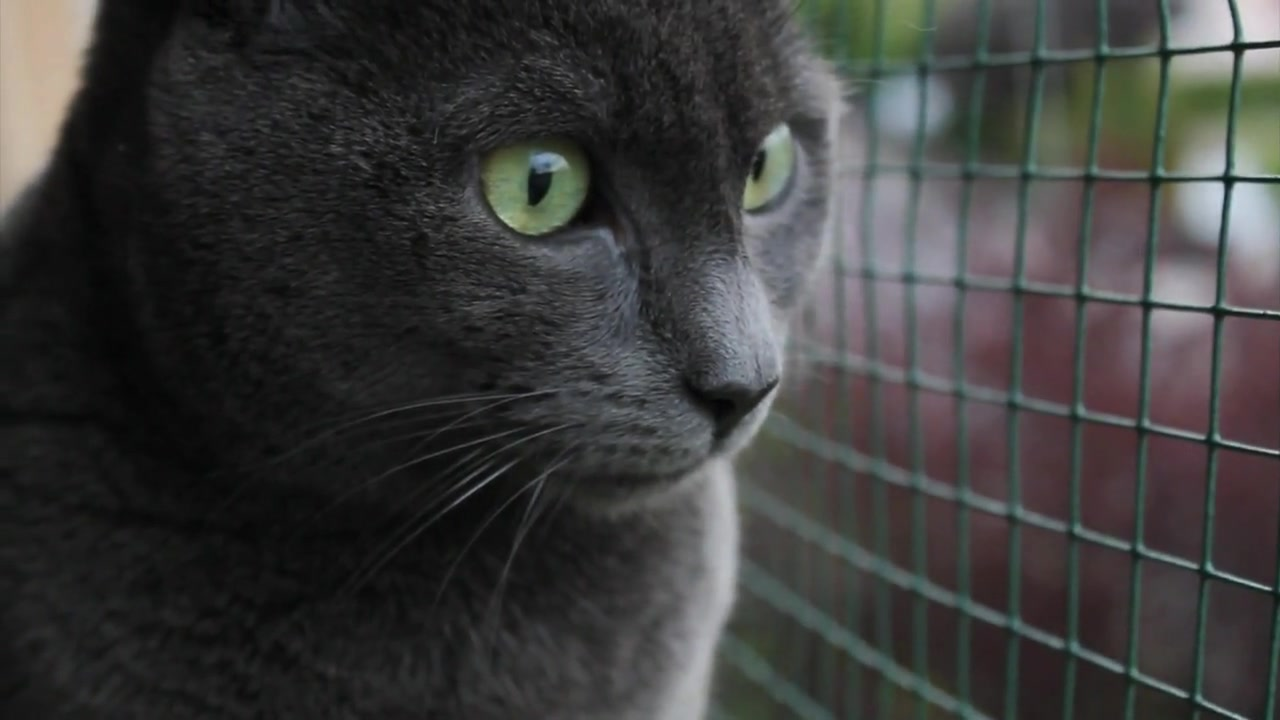cat: (1, 1, 845, 720)
